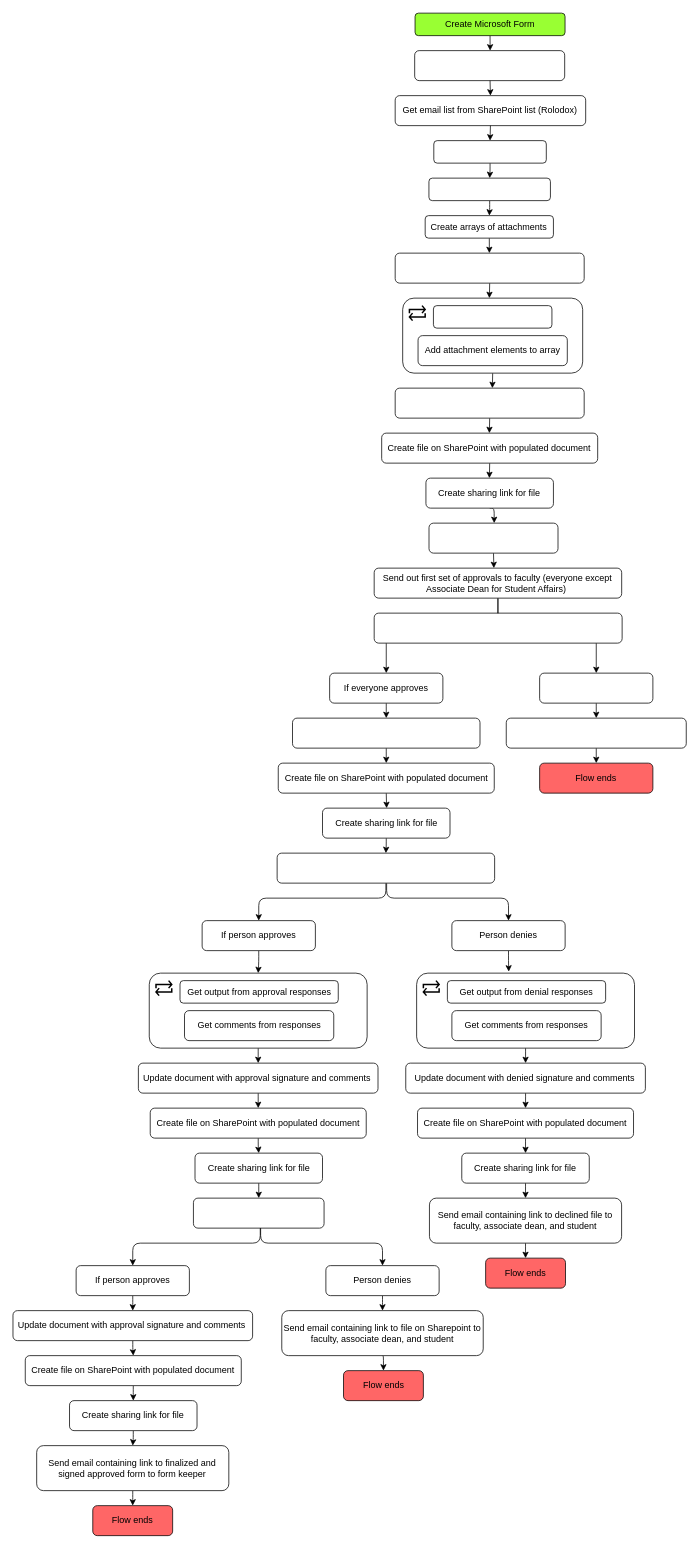
Some shapes in this 700 by 1549 pixel diagram are drawn without their labels. The box of each missing label's shape, as (x1, y1, x2, y2) in pixels:
Capture the response information of each faculty member.: (373, 612, 622, 643)
Get file content: (433, 305, 552, 328)
Get response details: (433, 140, 546, 163)
Get user profile for student: (428, 177, 550, 201)
Get user profiles for faculty: (428, 522, 558, 553)
One person denies: (539, 672, 653, 703)
Parse JSON (creating attachment elements): (394, 252, 584, 283)
Populate word document with Form response: (394, 387, 584, 418)
Send denial email to faculty and student: (506, 717, 686, 748)
Send out approvals phase 2: Associate Dean for Student Affairs approval: (276, 852, 495, 883)
Send out for final approval to student: (193, 1197, 324, 1228)
Update document with approval signatures: (292, 717, 480, 748)
When a new response is submitted: (414, 50, 565, 81)
